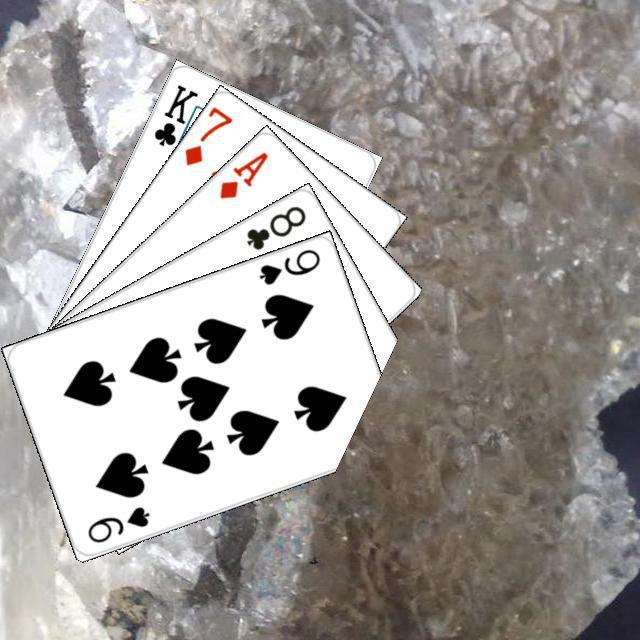7d: (179, 102, 235, 168)
8c: (241, 201, 308, 252)
9s: (82, 501, 151, 545), (254, 244, 322, 287)
Ad: (214, 146, 270, 201)
Kc: (148, 79, 202, 161)
